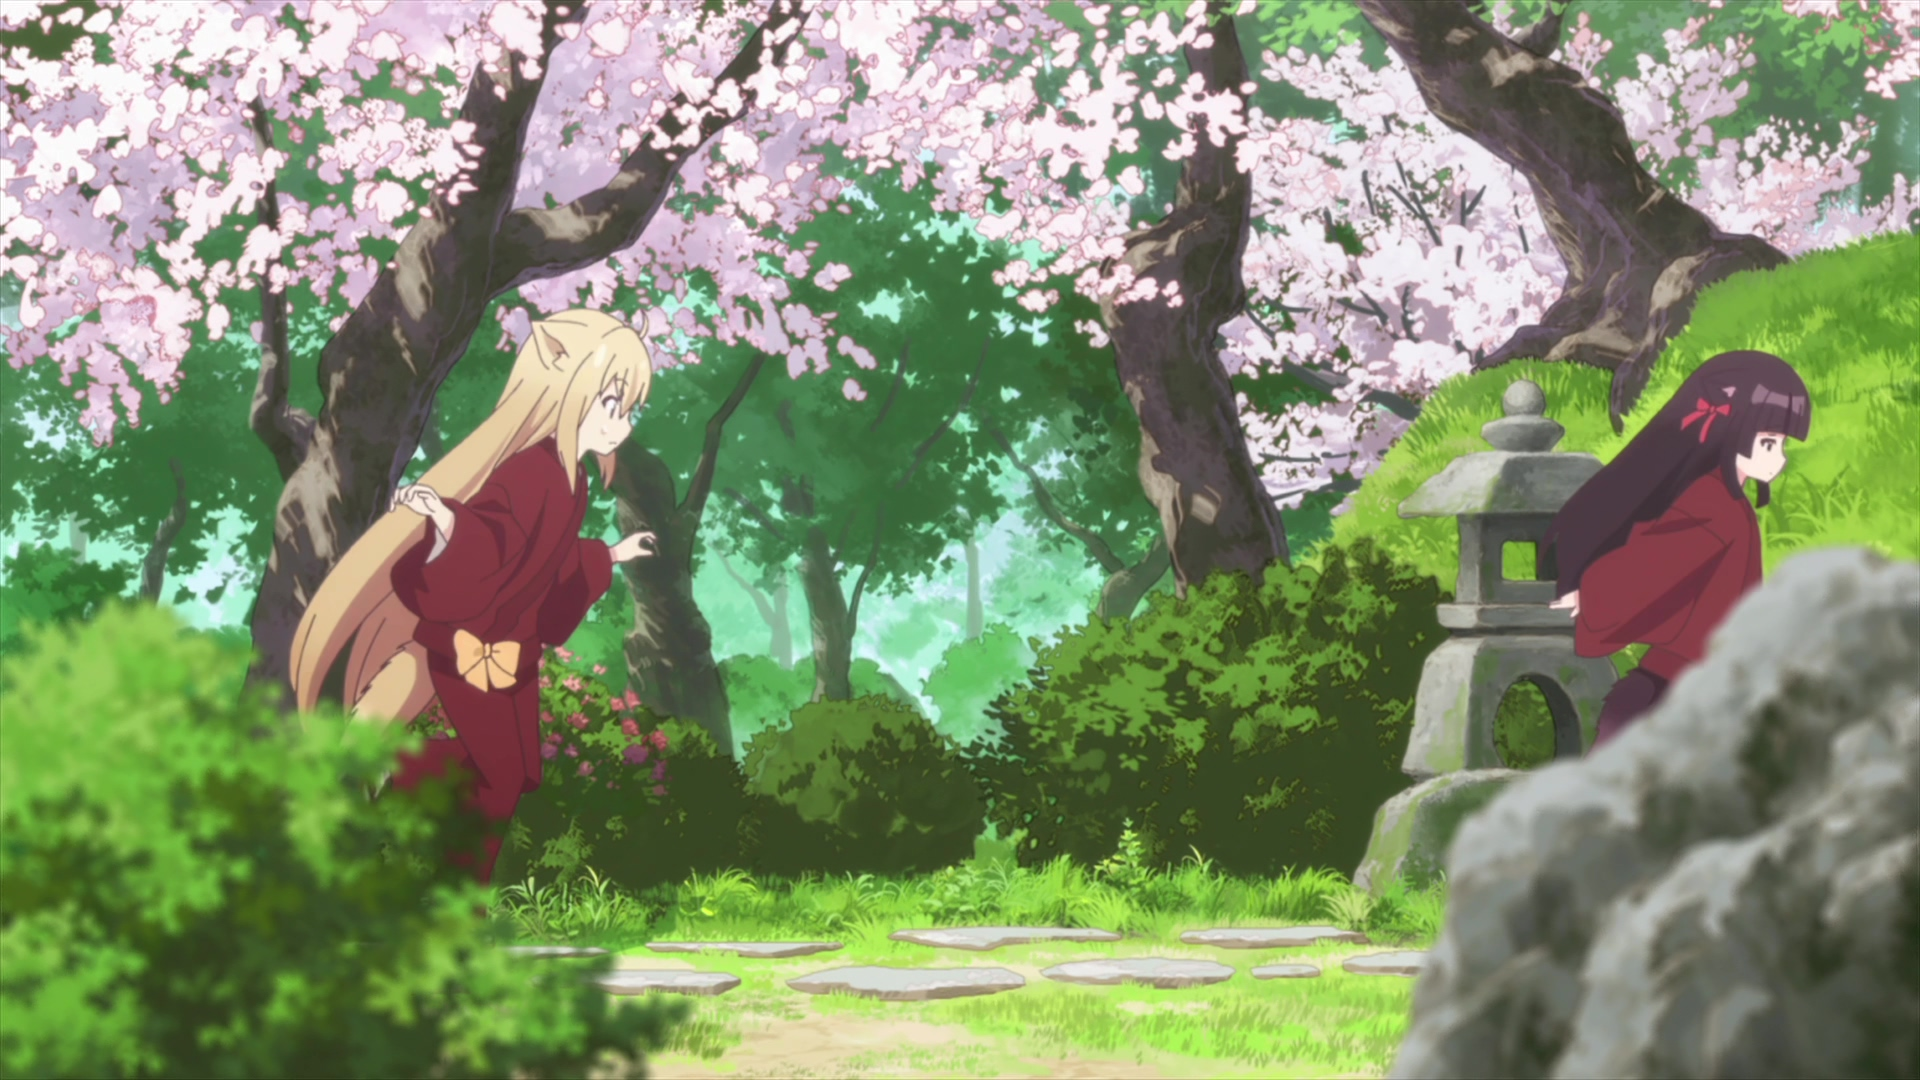柚: (291, 306, 658, 899)
樱: (1538, 349, 1815, 754)
